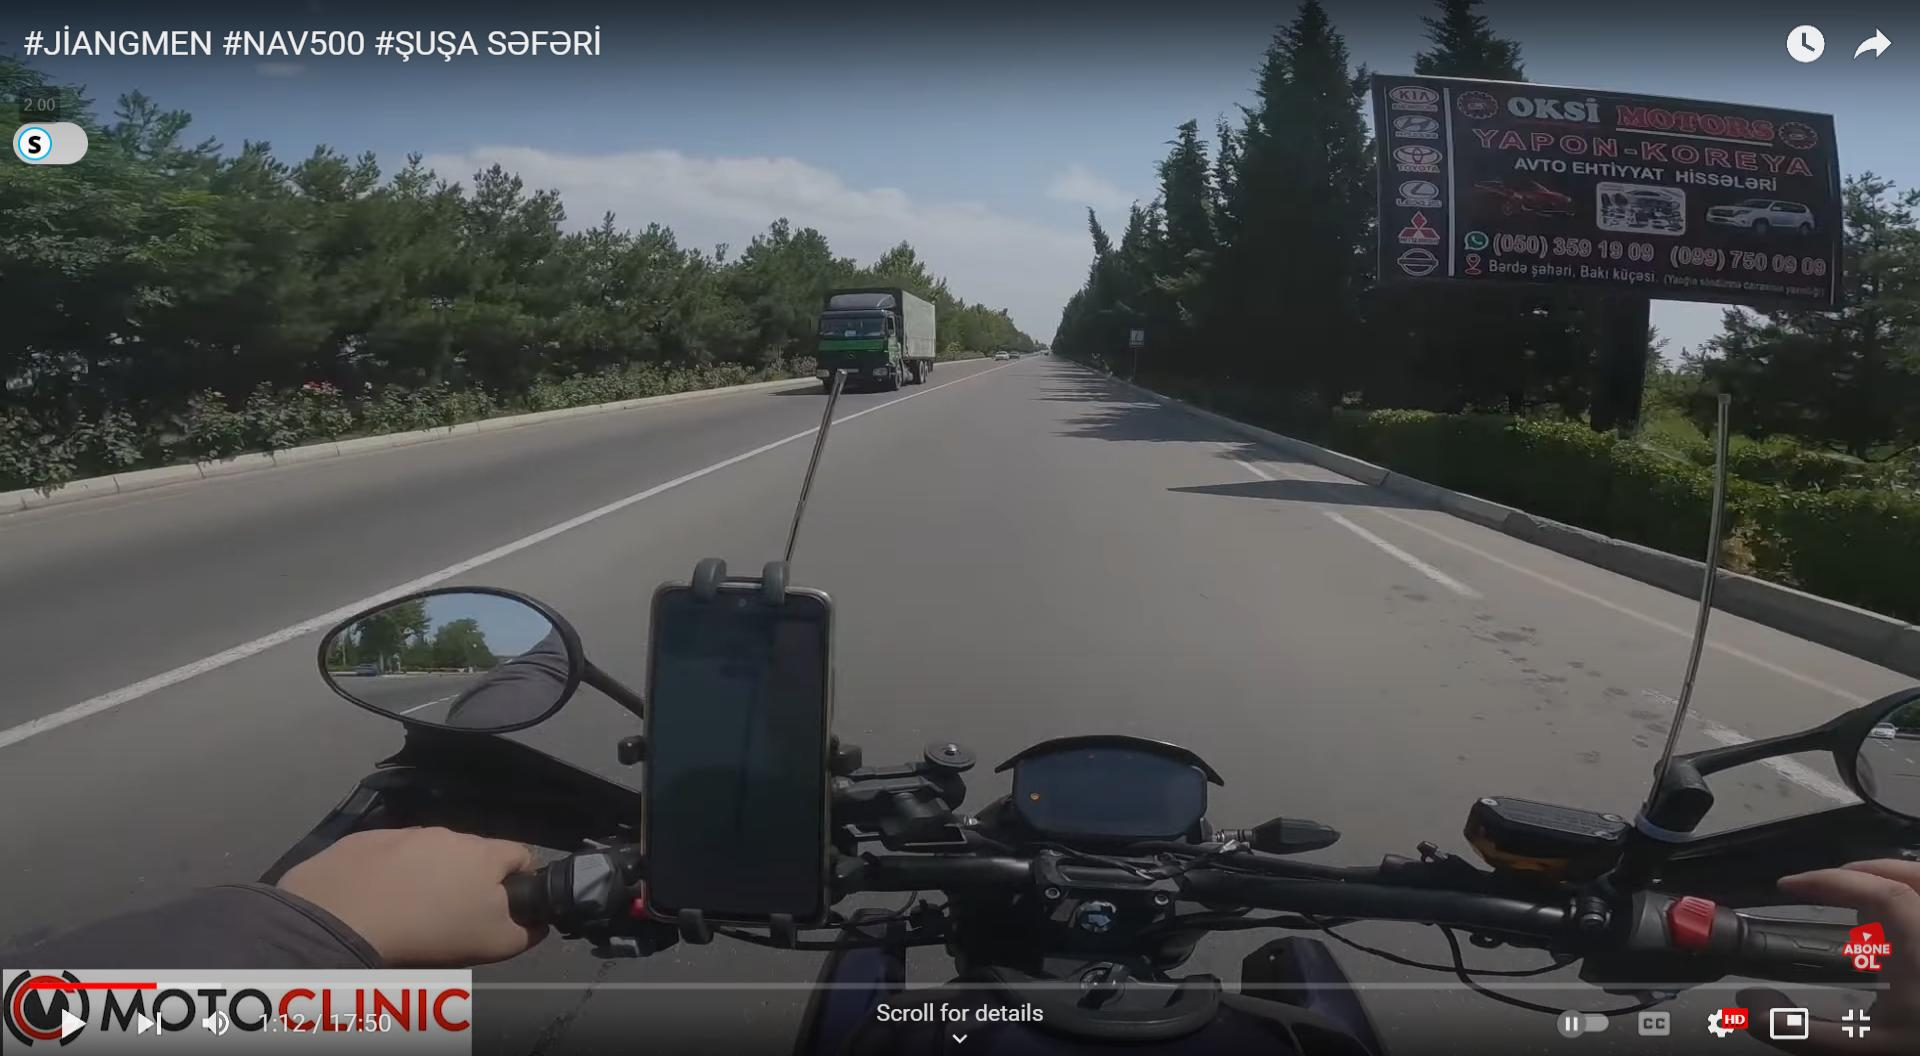banner: (1366, 69, 1846, 316)
